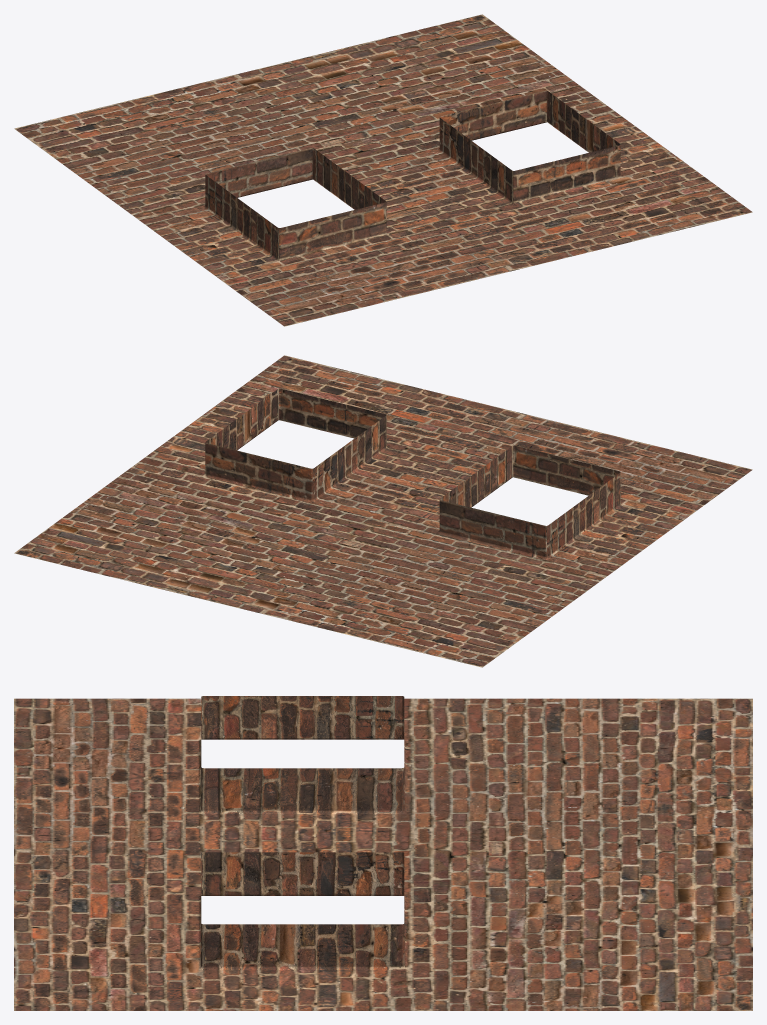
The model's file is wall_window_centered_double_03.gltf.
3 views of the same model, one above another, from view 1: azimuth 30°, elevation 25°; view 2: azimuth 150°, elevation 25°; view 3: azimuth 270°, elevation 25° (orthographic). The views are drawn at different scales.
Visible parts, largest first — view 1: wall_window_centered_double_03; view 2: wall_window_centered_double_03; view 3: wall_window_centered_double_03.
Part boxes in pixels (x1=…): wall_window_centered_double_03: x1=14, y1=14, x2=752, y2=326; wall_window_centered_double_03: x1=14, y1=355, x2=752, y2=667; wall_window_centered_double_03: x1=14, y1=696, x2=752, y2=1010.
Size of the model in its own units: 3 by 0.2 by 3.
1 material, 1 textured.
